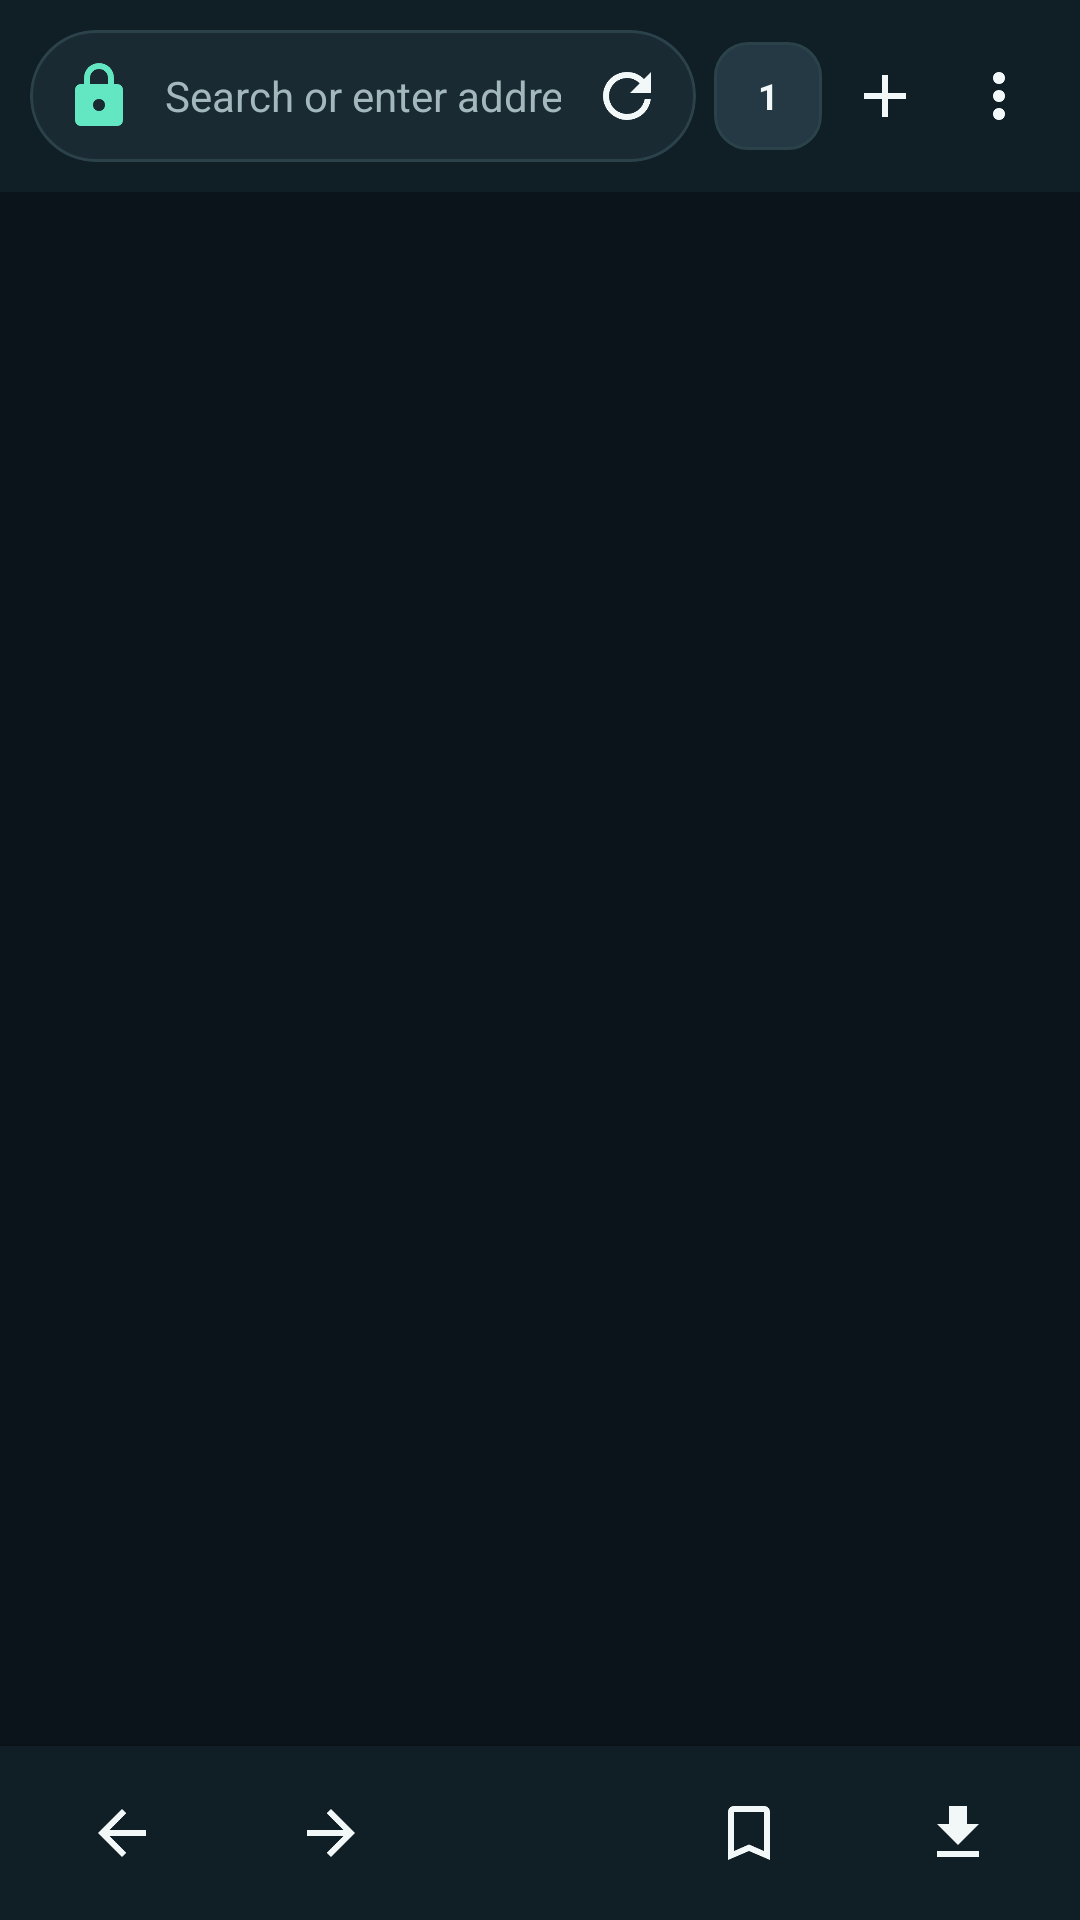

Icons on this 1080x1920 Android screen, each with the point to tap as (x=x, y=y):
Back: (x=122, y=1833)
Bookmarks: (x=749, y=1833)
Browser menu: (x=999, y=96)
Downloads: (x=958, y=1831)
Forward: (x=331, y=1833)
New tab: (x=885, y=96)
Reload page: (x=627, y=96)
Site security and privacy information: (x=99, y=94)
